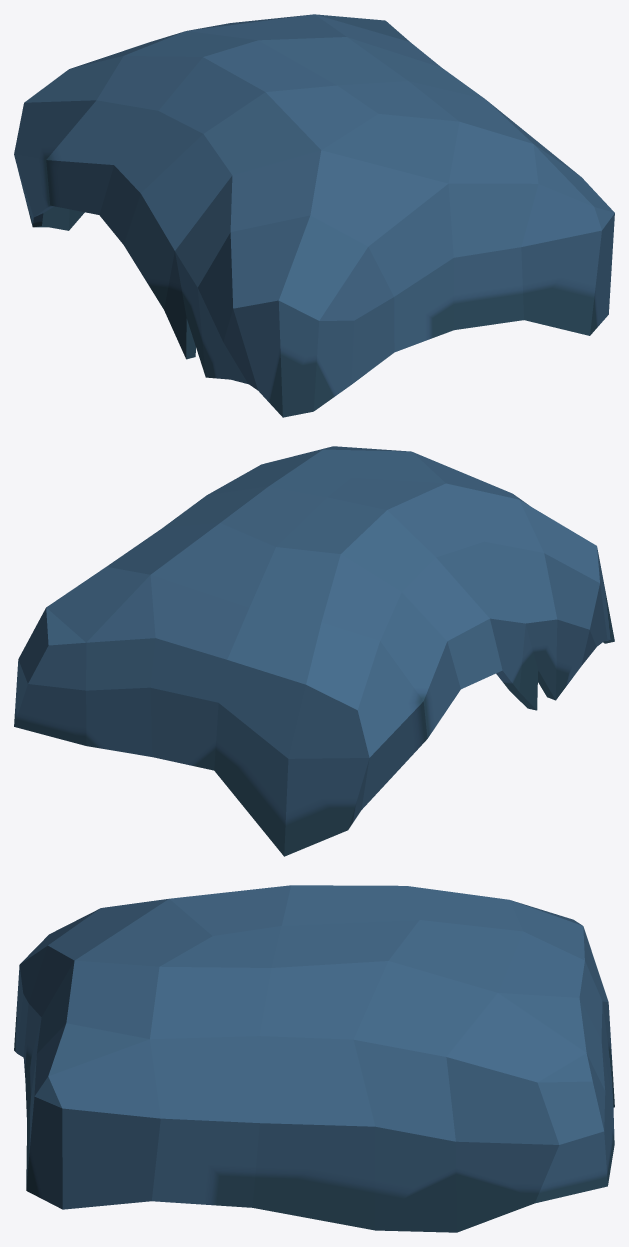
Rendered from SM_Prop_Cart_Metal_Tarp_01.glb.
3 views of the same model, one above another, from view 1: azimuth 30°, elevation 25°; view 2: azimuth 150°, elevation 25°; view 3: azimuth 270°, elevation 25° (orthographic). The views are drawn at different scales.
Parts seen in each view (by area): view 1: SM_Prop_Cart_Metal_Tarp_01; view 2: SM_Prop_Cart_Metal_Tarp_01; view 3: SM_Prop_Cart_Metal_Tarp_01.
Part boxes in pixels (<box>): SM_Prop_Cart_Metal_Tarp_01: <box>14,14,614,417</box>; SM_Prop_Cart_Metal_Tarp_01: <box>14,446,614,856</box>; SM_Prop_Cart_Metal_Tarp_01: <box>14,885,614,1232</box>.
Size of the model in its own units: 1.35 by 0.7844 by 1.73.
1 material, 1 textured.
